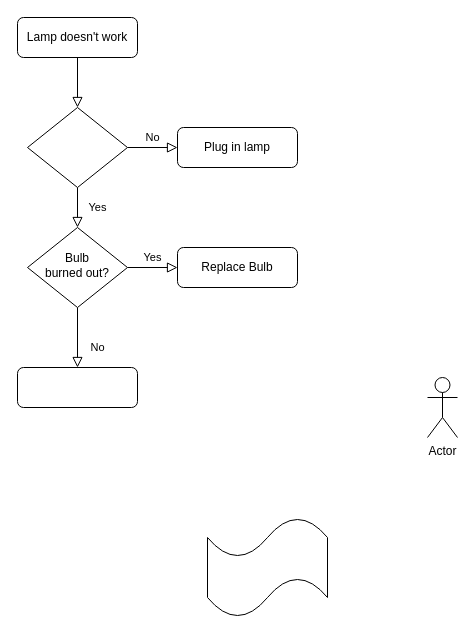
Image size: 475x635. Some labels were removed from this diagram. The centre of each missing label's shape, as x and y in pixels:
"Lamp plugged in?" belongs at point 77,147.
"Repair Lamp" belongs at point 77,387.
